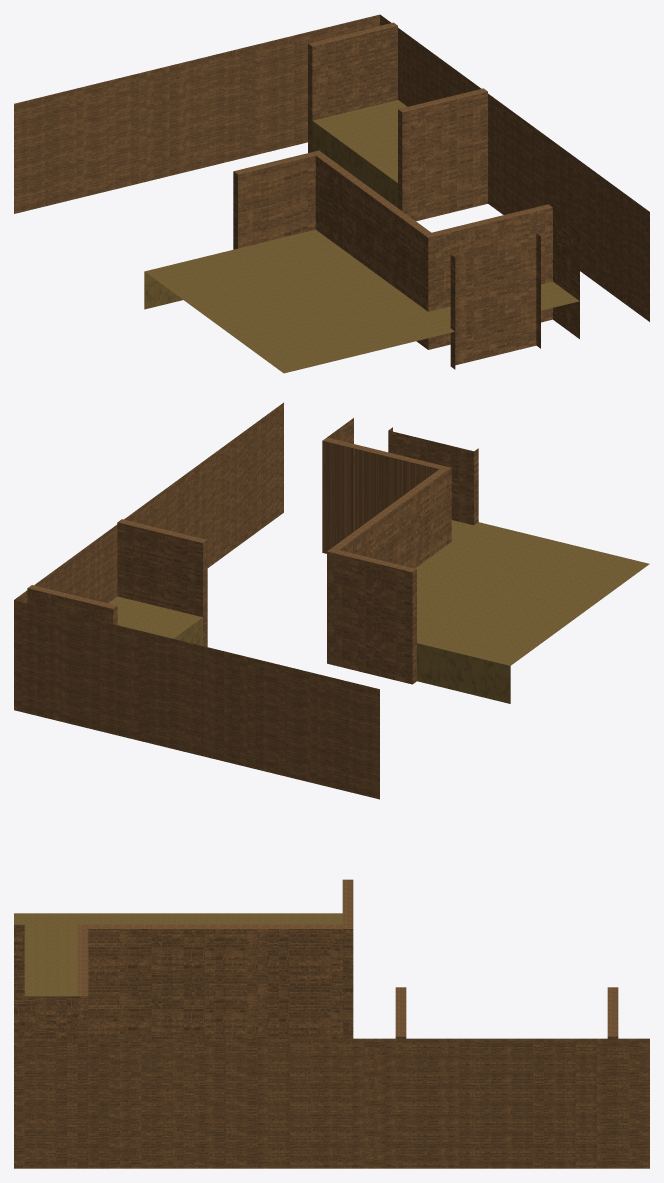
The picture shows the model from 3 angles, top to bottom: view 1: azimuth 30°, elevation 25°; view 2: azimuth 150°, elevation 25°; view 3: azimuth 270°, elevation 25°; orthographic projection. The views are drawn at different scales.
Visible parts, largest first — view 1: map; view 2: map; view 3: map.
Part boxes in pixels (x1=…): map: x1=14, y1=14, x2=649, y2=373; map: x1=14, y1=402, x2=649, y2=799; map: x1=14, y1=879, x2=649, y2=1168.
Bounding box in the file's own units: 47.36 × 13.86 × 60.45.
2 materials, 2 textured.
